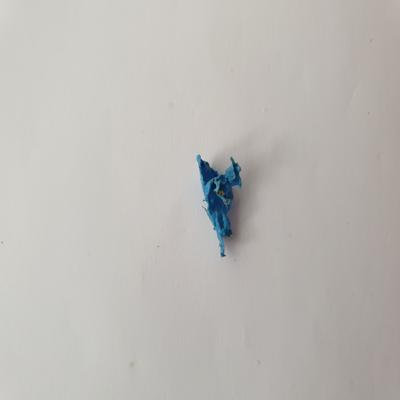plastic: (191, 150, 245, 261)
